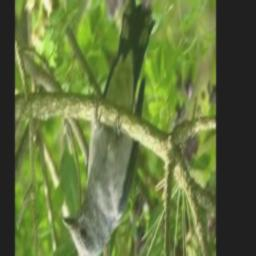Cuckoo: (62, 0, 155, 256)
